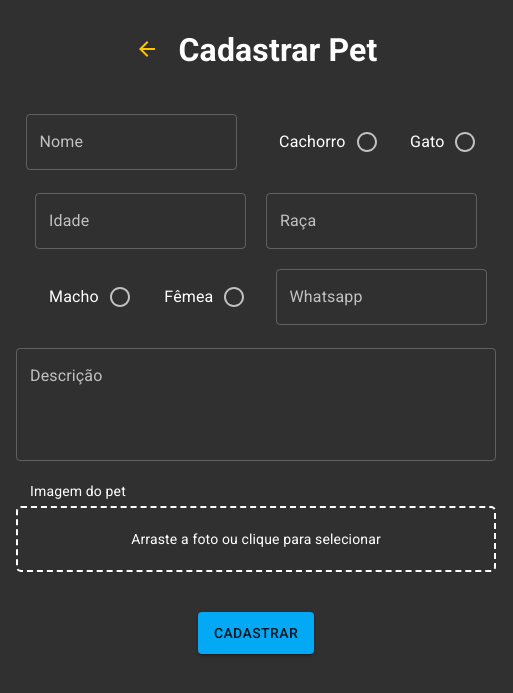
Scenario: Add pet page (direct interaction) › should not allow users to register a pet without an age
Expected: the text "Deve ser um número" is not shown
Type "Teste" into the element with test id "name".
click(132, 144); type("Teste")  # box [26, 114, 237, 173]
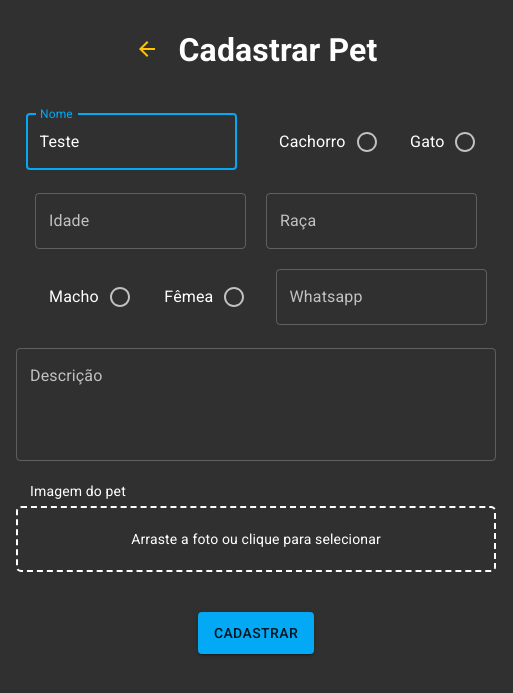
Click the icon with test id "type-dog".
click(367, 142)  # box [355, 130, 379, 154]
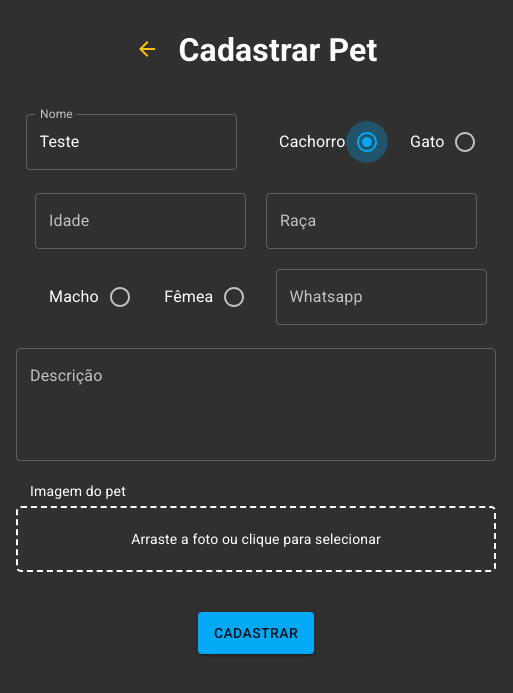
Type "Pastor alemão" into the element with test id "breed".
click(372, 221); type("Pastor alemão")  # box [266, 193, 477, 249]
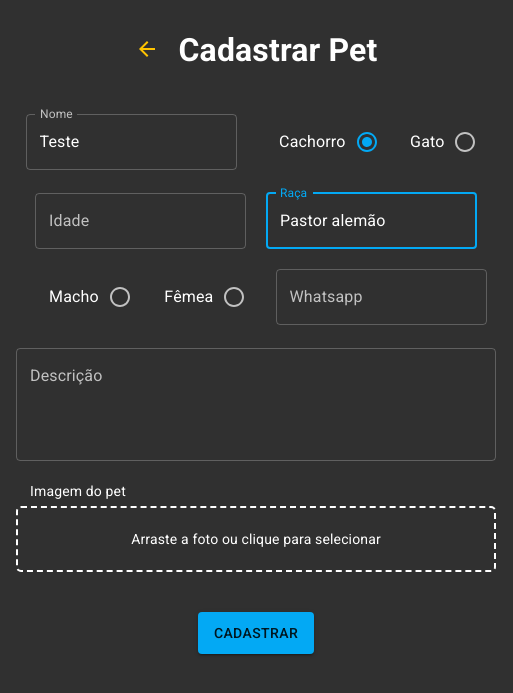
Click the icon with test id "sex-male".
click(120, 297)  # box [108, 285, 132, 309]
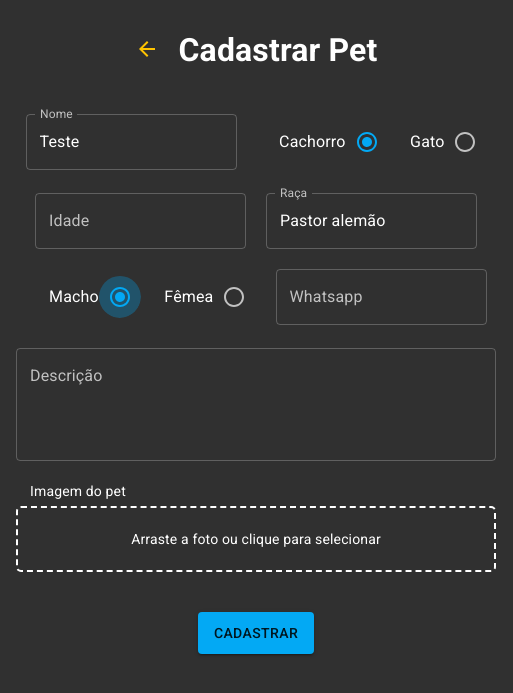
Type "83996481242" into the element with test id "phone".
click(382, 299); type("83996481242")  # box [276, 269, 487, 328]
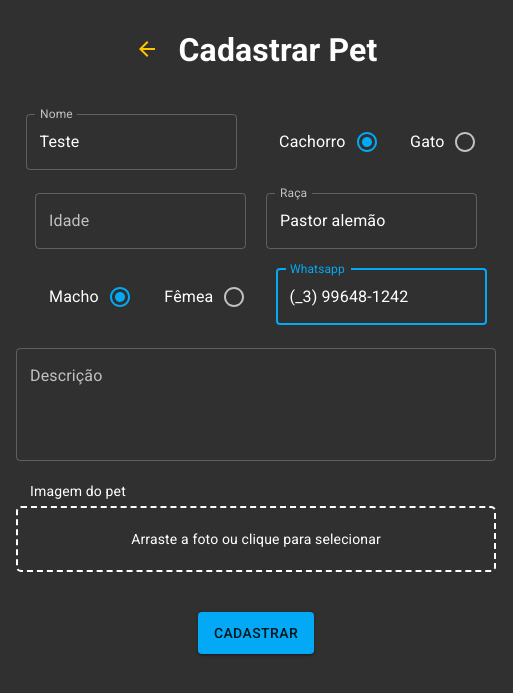
Click the button with test id "submit-button".
click(256, 633)  # box [198, 612, 314, 654]
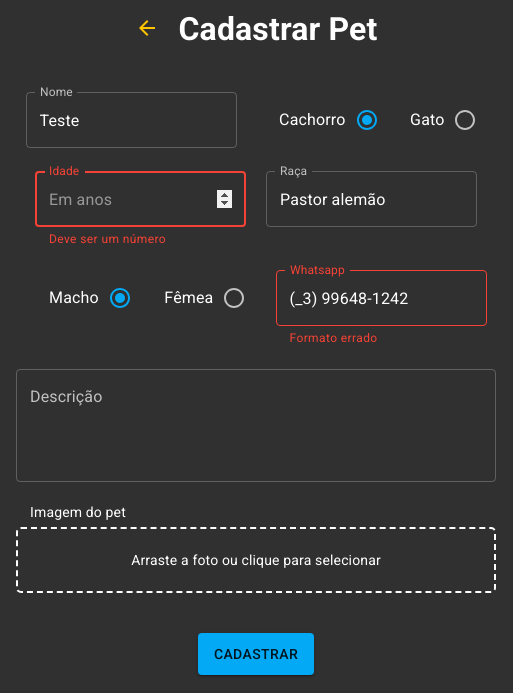
Expected: the text "Deve ser um número" is shown, [49, 232, 166, 246]
